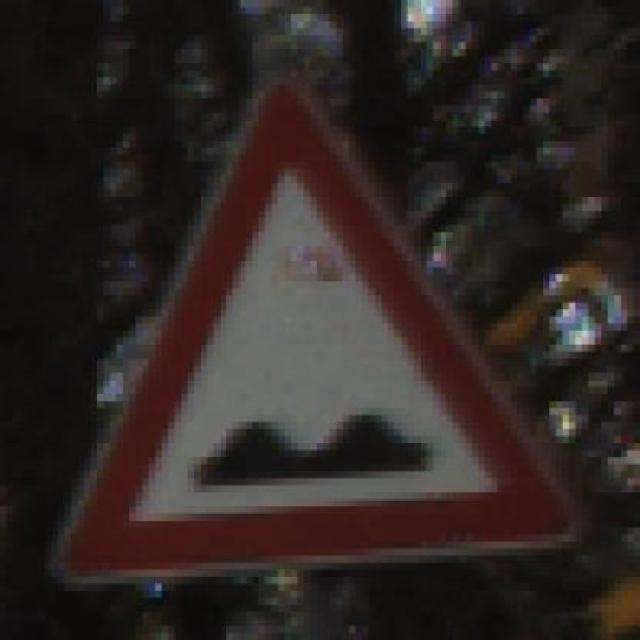Uneven Road: (39, 63, 582, 585)
